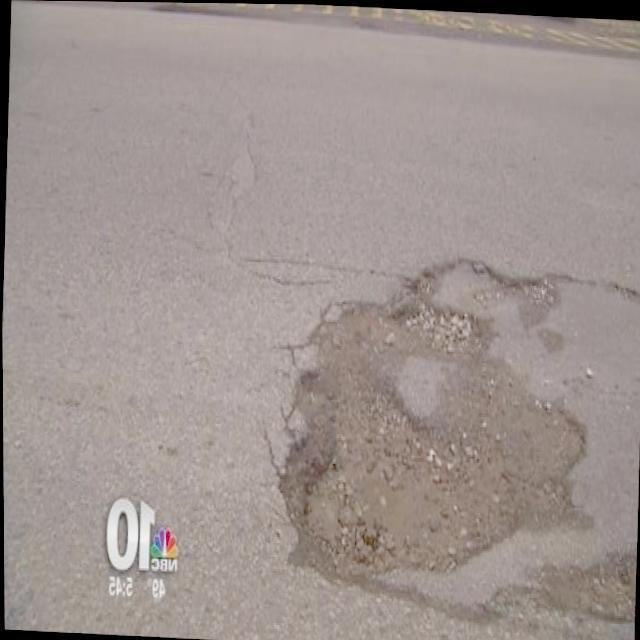Pothole: (285, 278, 588, 583)
